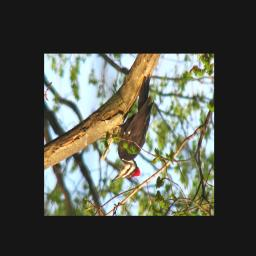Woodpecker: (108, 73, 155, 185)
